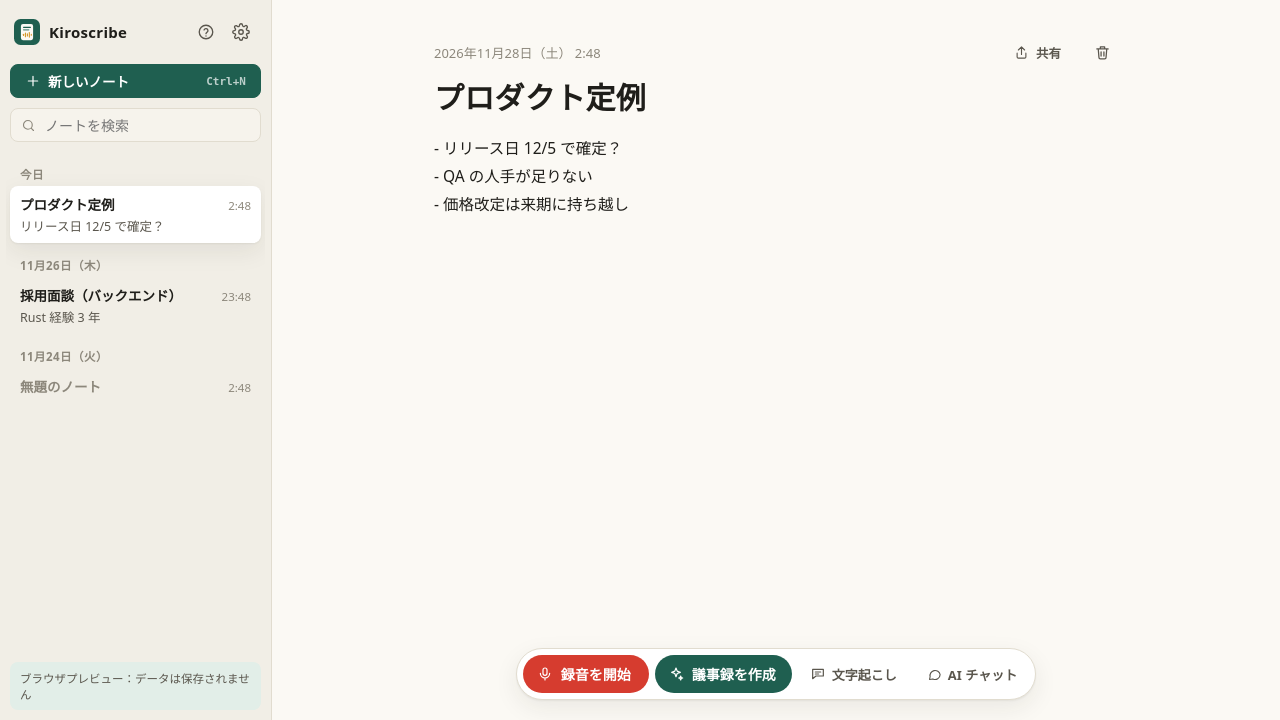
Test: 録音: 文字起こしのパネル › [TRN-016] 同じ発話が二重に届いても、1 回だけ表示する
Expected: the field showing "プロダクト定例" is shown, [434, 74, 1118, 121]
Click the button "録音を開始" at (586,674), box [523, 655, 649, 693]
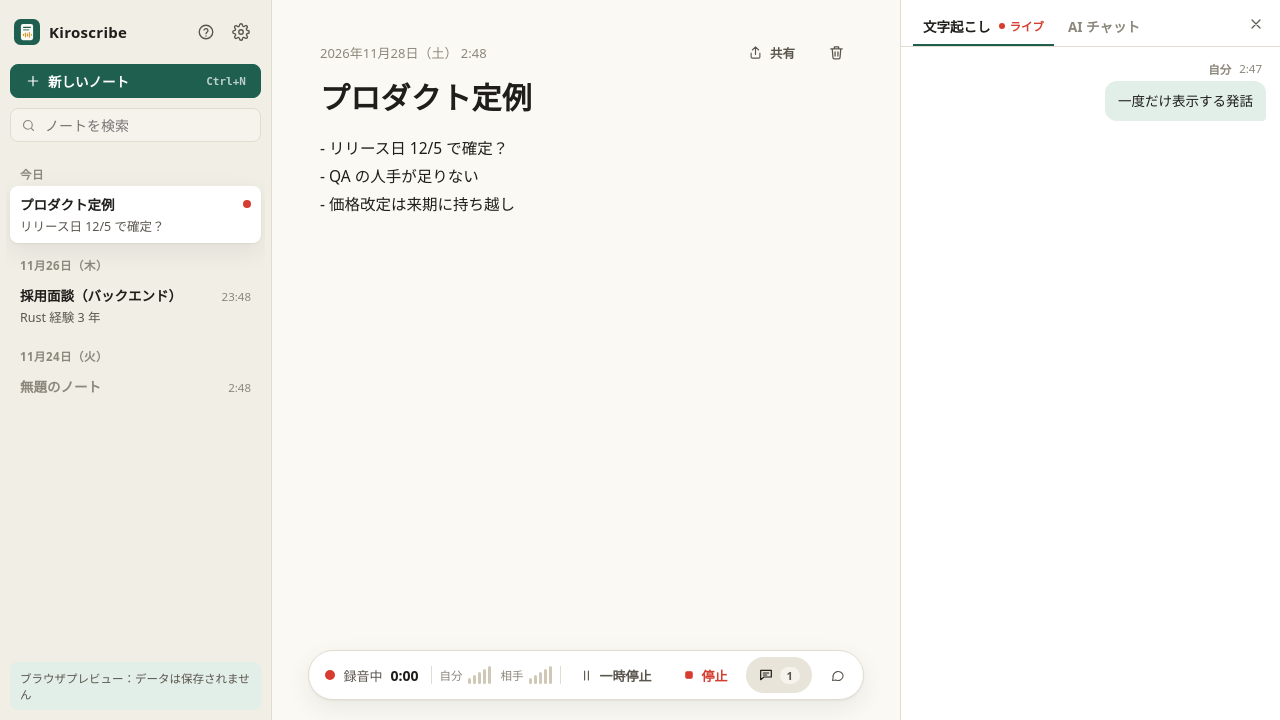
Expected: the element showing "録音中 0:00" is shown, [342, 666, 424, 684]
Expected: the text "一度だけ表示する発話" is shown once, [1118, 90, 1253, 112]
